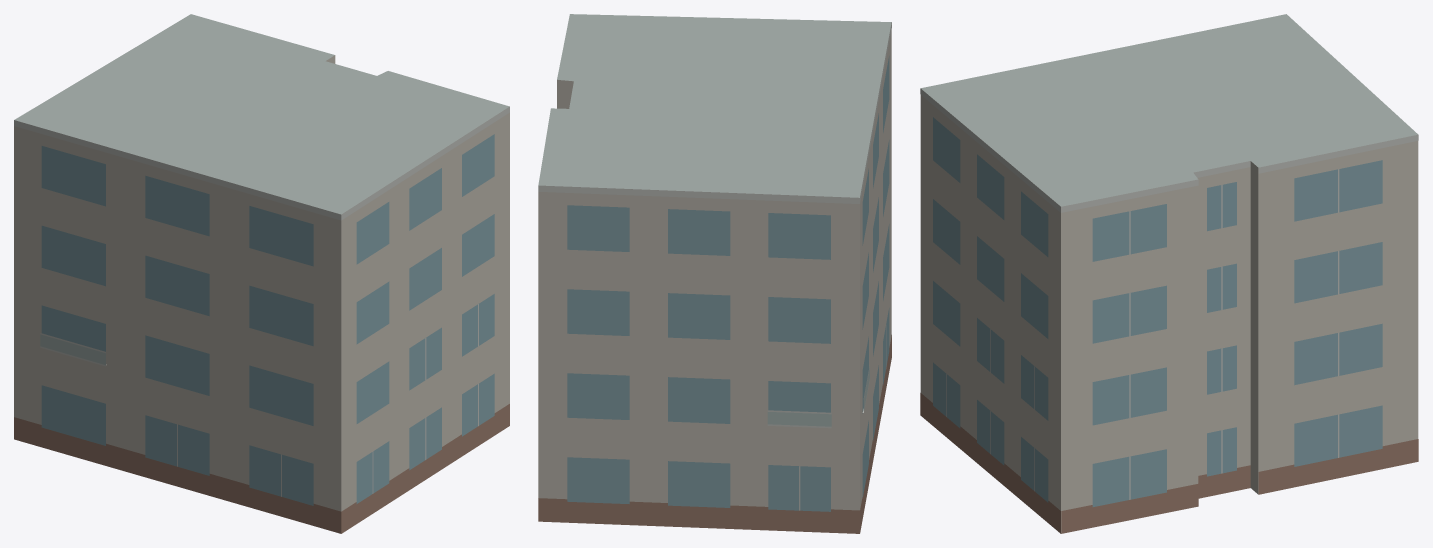
File: survey-upis-32746742.glb
3 renders of one model, left to right at view 1: azimuth 30°, elevation 25°; view 2: azimuth 150°, elevation 25°; view 3: azimuth 270°, elevation 25°, orthographic. The views are drawn at different scales.
Visible parts, largest first — view 1: survey-upis-32746742.tmp; view 2: survey-upis-32746742.tmp; view 3: survey-upis-32746742.tmp.
Part boxes in pixels (x1,y1,x2,y2): survey-upis-32746742.tmp: [14, 14, 509, 533]; survey-upis-32746742.tmp: [538, 14, 891, 533]; survey-upis-32746742.tmp: [920, 14, 1418, 533].
Size of the model in its own units: 16.44 by 13 by 17.95.
